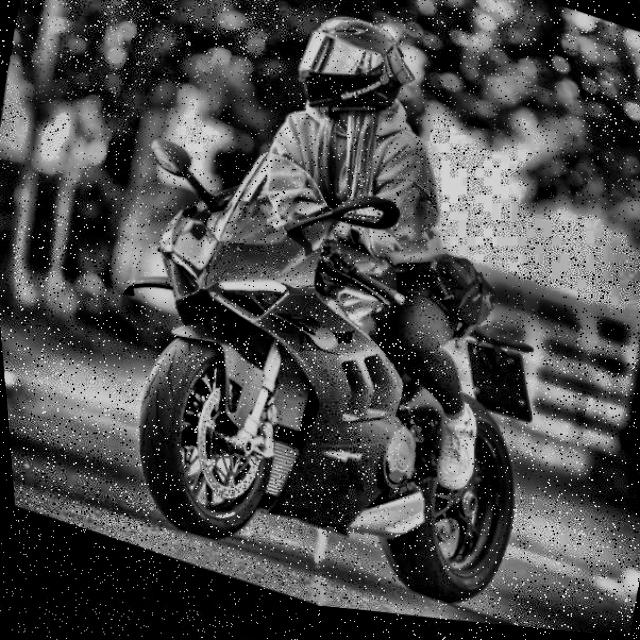Helmet: (277, 0, 434, 152)
